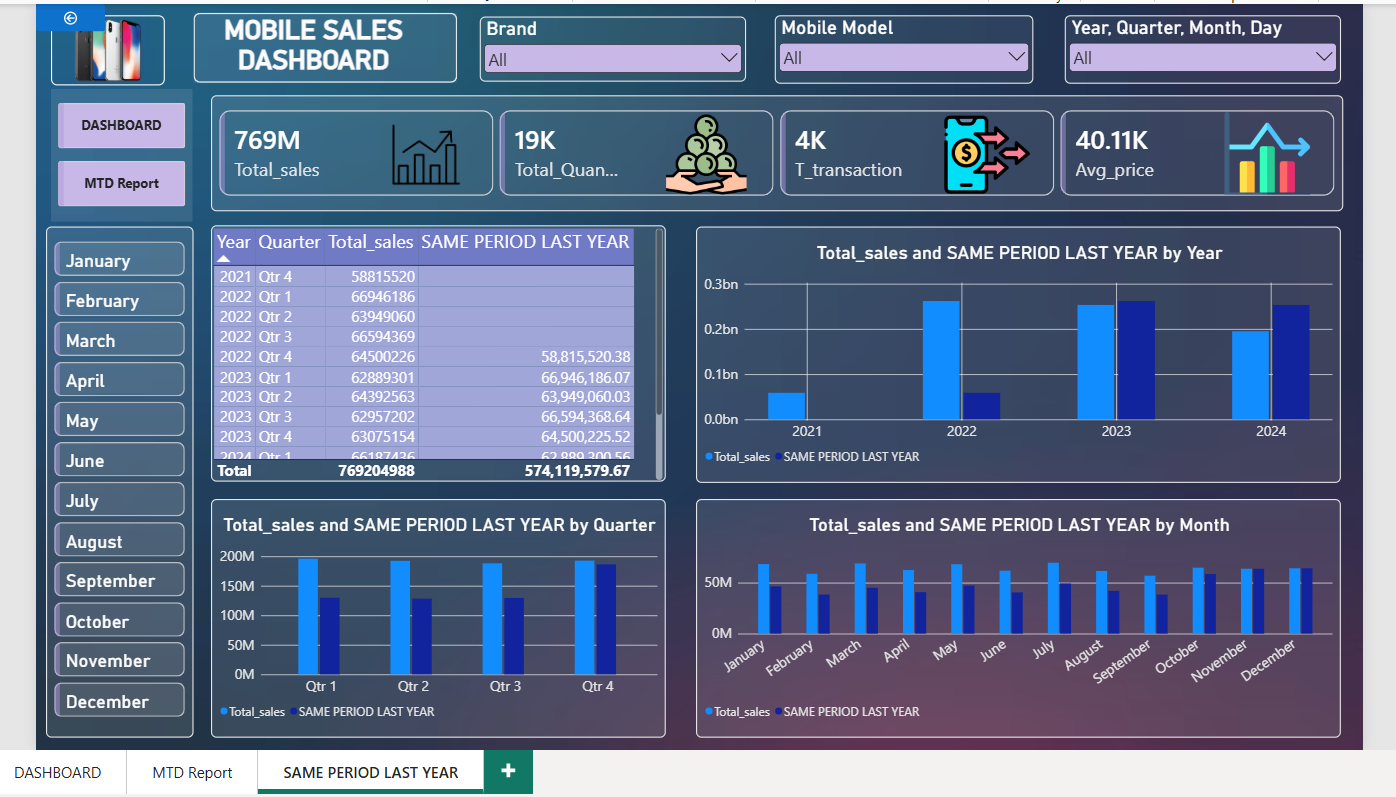

What the dashboard file says about the page in this screenshot:
{"tool":"powerbi","page":{"name":"SAME PERIOD LAST YEAR","canvas":[1920,1080],"ordinal":2},"visuals":[{"type":"cardVisual","fields":{"Data":["sales_data.Total_sales","sales_data.Total_Quantity","sales_data.T_transaction","sales_data.Average_price"]},"box":[253.4,132.1,1639.6,168.3],"z":0},{"type":"slicer","fields":{"Values":["sales_data.Brand"]},"box":[642.4,18.1,385.5,94.1],"z":1000},{"type":"slicer","fields":{"Values":["sales_data.Mobile Model"]},"box":[1069.5,16.3,374.6,99.5],"z":2000},{"type":"slicer","fields":{"Values":["Custom_date.Date.Variation.Date Hierarchy.Year","Custom_date.Date.Variation.Date Hierarchy.Quarter","Custom_date.Date.Variation.Date Hierarchy.Month","Custom_date.Date.Variation.Date Hierarchy.Day"]},"box":[1489.4,16.3,399.9,99.5],"z":3000},{"type":"textbox","box":[253.4,14.5,296.8,95.9],"z":4000},{"type":"shape","box":[228,12.7,381.8,101.3],"z":5000},{"type":"image","box":[21.7,16.3,164.7,101.3],"z":6000},{"type":"advancedSlicerVisual","fields":{"Values":["Custom_date.Date.Variation.Date Hierarchy.Month"]},"box":[14.5,322.1,213.5,740.2],"z":7000},{"type":"tableEx","fields":{"Values":["Custom_date.Date.Variation.Date Hierarchy.Year","Custom_date.Date.Variation.Date Hierarchy.Quarter","sales_data.Total_sales","sales_data.SAME PERIOD LAST YEAR"]},"box":[253.4,320.3,658.7,371],"z":8000},{"type":"actionButton","box":[0,0,100,40],"z":9000},{"type":"clusteredColumnChart","fields":{"Category":["Custom_date.Date.Variation.Date Hierarchy.Year","Custom_date.Date.Variation.Date Hierarchy.Quarter","Custom_date.Date.Variation.Date Hierarchy.Month"],"Y":["sales_data.Total_sales","sales_data.SAME PERIOD LAST YEAR"]},"box":[955.5,322.1,933.8,371],"z":10000},{"type":"clusteredColumnChart","fields":{"Category":["Custom_date.Date.Variation.Date Hierarchy.Year","Custom_date.Date.Variation.Date Hierarchy.Quarter","Custom_date.Date.Variation.Date Hierarchy.Month","Custom_date.Date.Variation.Date Hierarchy.Day"],"Y":["sales_data.Total_sales","sales_data.SAME PERIOD LAST YEAR"]},"box":[955.5,716.6,933.8,345.6],"z":11000},{"type":"clusteredColumnChart","fields":{"Category":["Custom_date.Date.Variation.Date Hierarchy.Year","Custom_date.Date.Variation.Date Hierarchy.Quarter","Custom_date.Date.Variation.Date Hierarchy.Month"],"Y":["sales_data.Total_sales","sales_data.SAME PERIOD LAST YEAR"]},"box":[253.4,716.6,658.7,345.6],"z":12000},{"type":"pageNavigator","box":[21.7,123.1,204.5,191.8],"z":12001}]}

Visuals, with their boxes on the page's 1920x1080 design canvas (x1, y1, x2, y2). These are canvas units, not pixel positions in the 1396x797 screenshot, which may show the page scaled, cropped or inside an application window:
cardVisual - sales_data.Total_sales x sales_data.Total_Quantity: 253/132/1893/300
slicer - sales_data.Brand: 642/18/1028/112
slicer - sales_data.Mobile Model: 1070/16/1444/116
slicer - Custom_date.Date.Variation.Date Hierarchy.Year x Custom_date.Date.Variation.Date Hierarchy.Quarter: 1489/16/1889/116
textbox: 253/14/550/110
shape: 228/13/610/114
image: 22/16/186/118
advancedSlicerVisual - Custom_date.Date.Variation.Date Hierarchy.Month: 14/322/228/1062
tableEx - Custom_date.Date.Variation.Date Hierarchy.Year x Custom_date.Date.Variation.Date Hierarchy.Quarter: 253/320/912/691
actionButton: 0/0/100/40
clusteredColumnChart - Custom_date.Date.Variation.Date Hierarchy.Year x Custom_date.Date.Variation.Date Hierarchy.Quarter: 956/322/1889/693
clusteredColumnChart - Custom_date.Date.Variation.Date Hierarchy.Year x Custom_date.Date.Variation.Date Hierarchy.Quarter: 956/717/1889/1062
clusteredColumnChart - Custom_date.Date.Variation.Date Hierarchy.Year x Custom_date.Date.Variation.Date Hierarchy.Quarter: 253/717/912/1062
pageNavigator: 22/123/226/315
